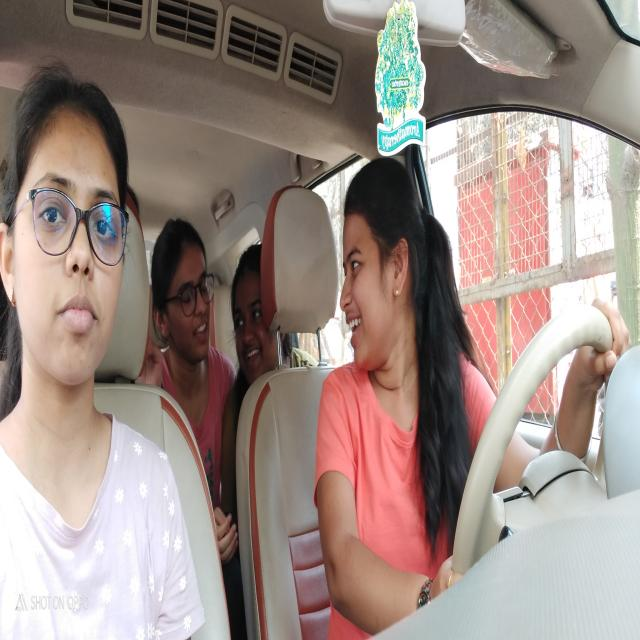LeftRight: (341, 153, 426, 371)
person: (3, 66, 130, 406), (151, 216, 218, 365), (232, 232, 276, 376)
talking: (345, 311, 363, 348)
